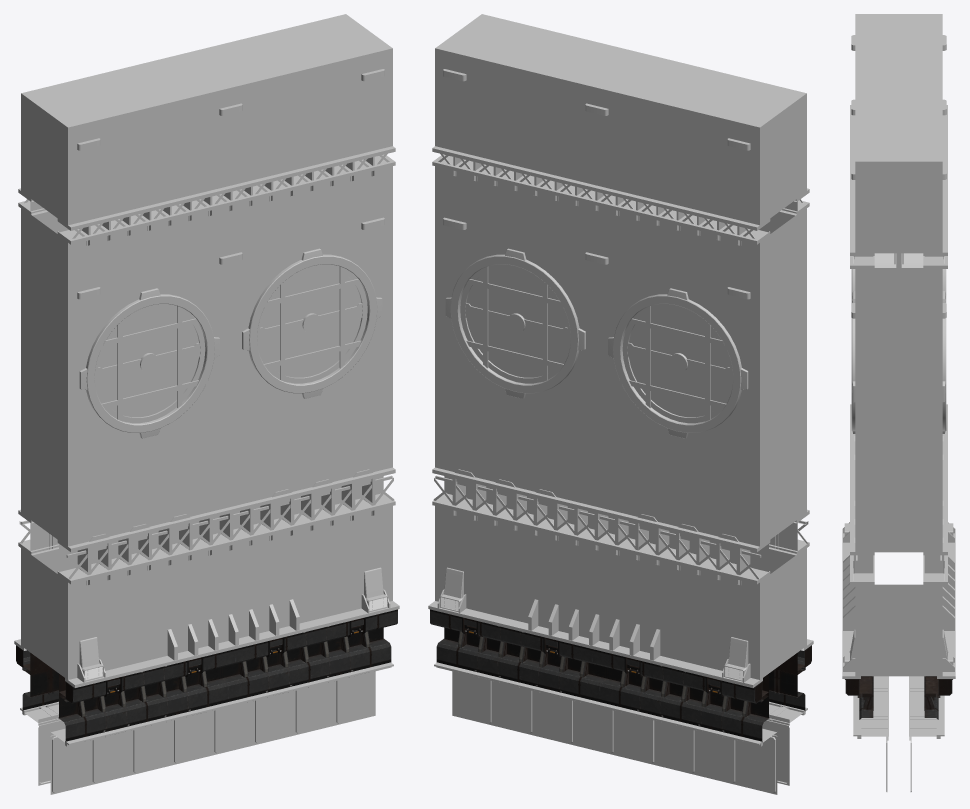
Rendered from Wall_Large_09.fbx.
The picture shows the model from 3 angles, left to right: view 1: azimuth 30°, elevation 25°; view 2: azimuth 150°, elevation 25°; view 3: azimuth 270°, elevation 25°; orthographic projection. The views are drawn at different scales.
Visible parts, largest first — view 1: Concrete_Blocks, Element1, Element3, Element2, Vents, Grid, Element4; view 2: Concrete_Blocks, Element1, Element3, Element2, Vents, Grid, Element4; view 3: Concrete_Blocks, Element1, Element3, Vents, Element2, Element4.
Part boxes in pixels (x1,y1,x2,y2): Concrete_Blocks: (21, 14, 392, 679); Element1: (14, 567, 399, 794); Element3: (18, 146, 395, 585); Element2: (16, 609, 397, 741); Vents: (79, 248, 382, 438); Grid: (98, 268, 361, 417); Element4: (77, 69, 384, 299); Concrete_Blocks: (435, 14, 806, 679); Element1: (428, 567, 813, 794); Element3: (432, 146, 809, 585); Element2: (430, 609, 811, 741); Vents: (445, 248, 748, 438); Grid: (466, 268, 729, 417); Element4: (443, 69, 750, 299); Concrete_Blocks: (855, 14, 942, 676); Element1: (842, 522, 955, 791); Element3: (850, 105, 947, 585); Vents: (851, 253, 946, 433); Element2: (845, 676, 952, 719); Element4: (851, 35, 946, 318).
Bounding box in the file's own units: 1604 × 3200 × 518.
